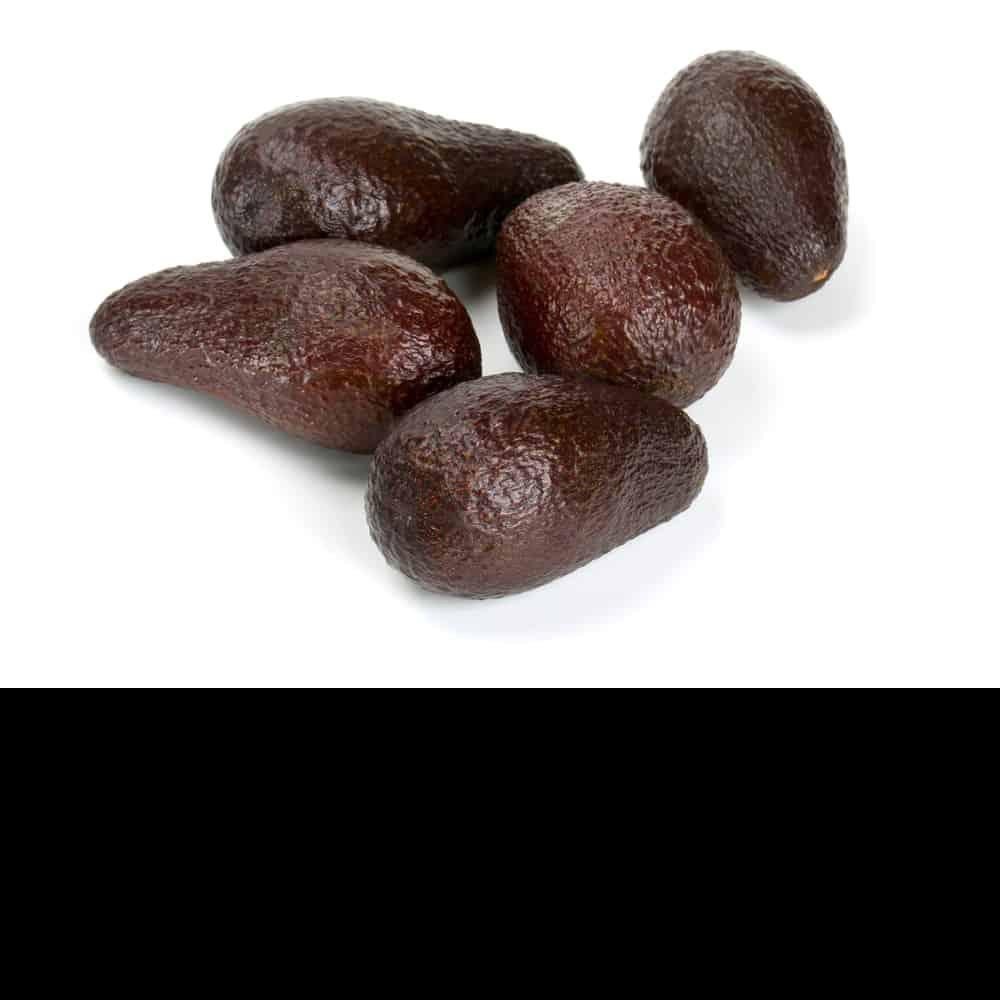ripe: (88, 239, 482, 454), (364, 371, 709, 599), (211, 97, 585, 275), (496, 182, 741, 409), (640, 50, 849, 301)
